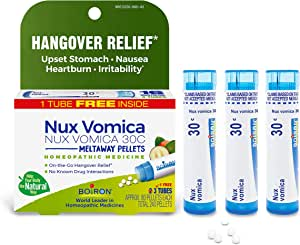Medicine: (13, 3, 180, 224), (178, 65, 220, 214), (263, 64, 300, 217), (223, 65, 260, 216)
